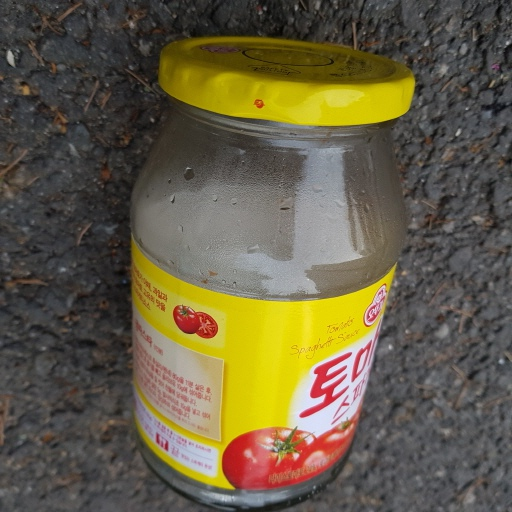Glass_5: (108, 27, 418, 512)
